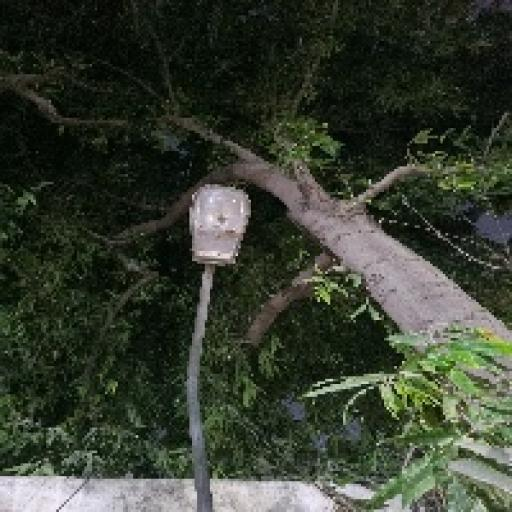Not Working: (173, 172, 260, 276)
